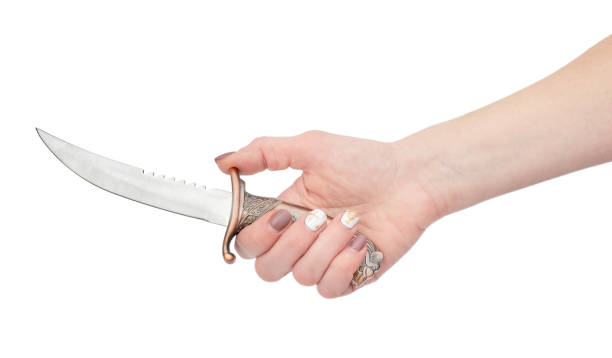knife: (34, 125, 386, 292)
